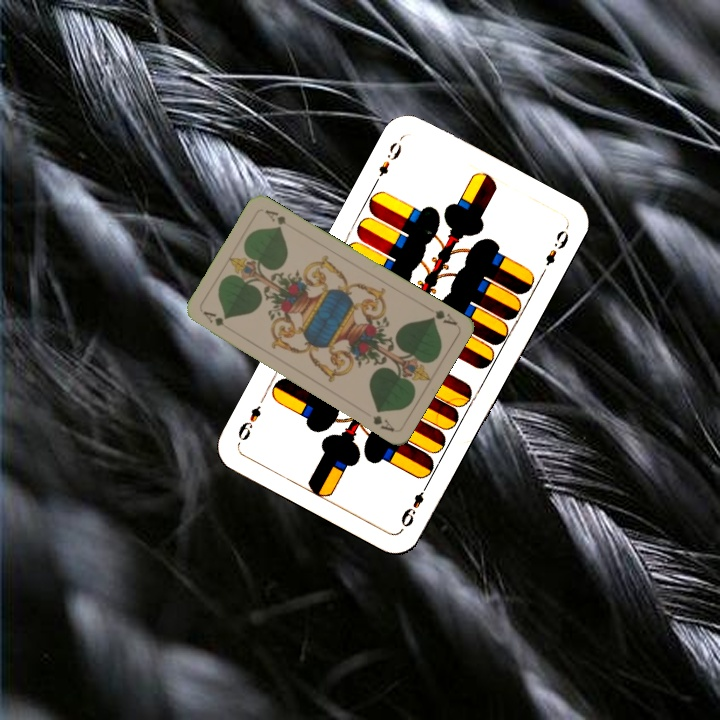E9: (397, 478, 432, 530), (374, 138, 405, 180)
GA: (199, 307, 235, 334), (426, 306, 460, 328)
